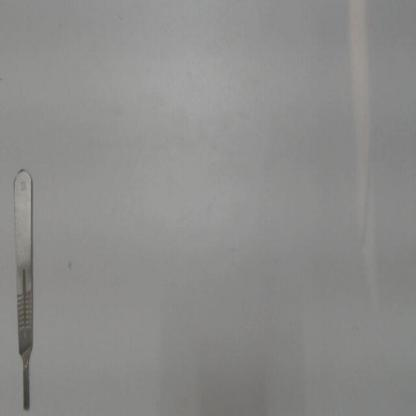No.4 BP Handle: (11, 160, 37, 412)
